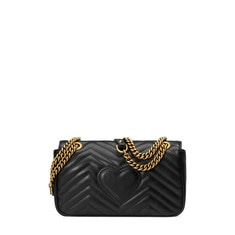Gucci: (40, 122, 198, 225), (67, 168, 182, 216)
